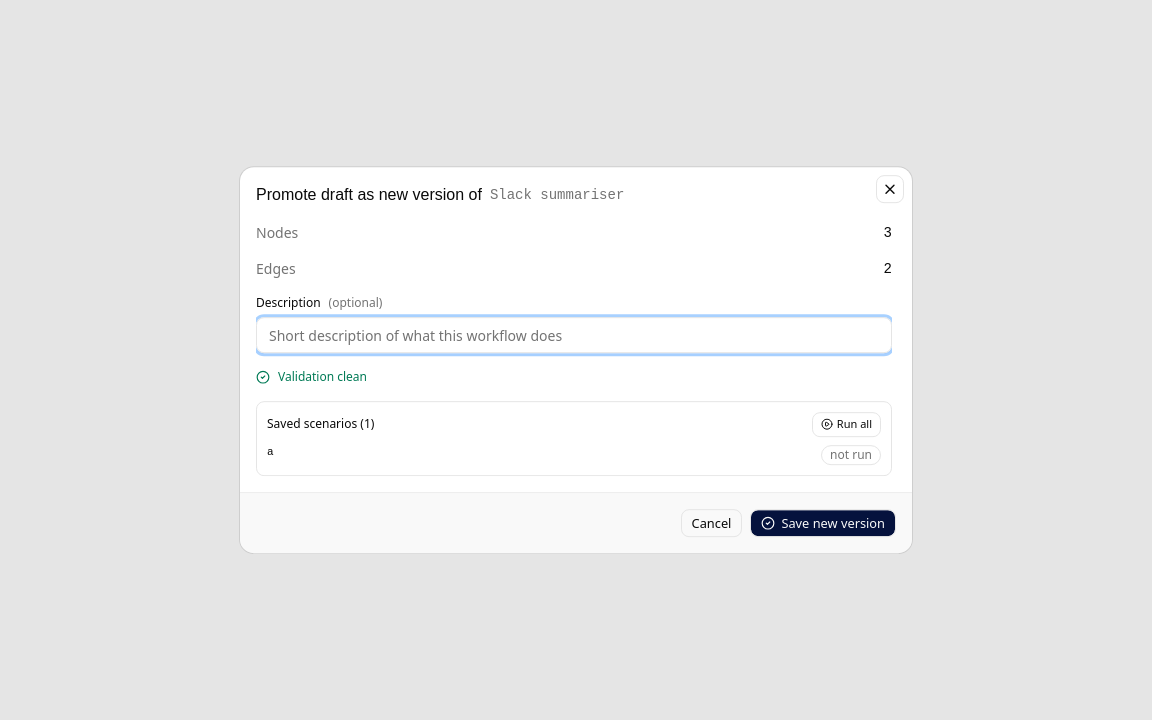
Test: PromoteDialog › leaves Apply enabled when all scenarios pass
Expected: the text "a" is shown, [267,445,274,460]
What coordinates should you click on to do the following:
click the button with aria-label "run all scenarios"
I would click on:
 (846, 425)
Its box is [812,412,881,437].
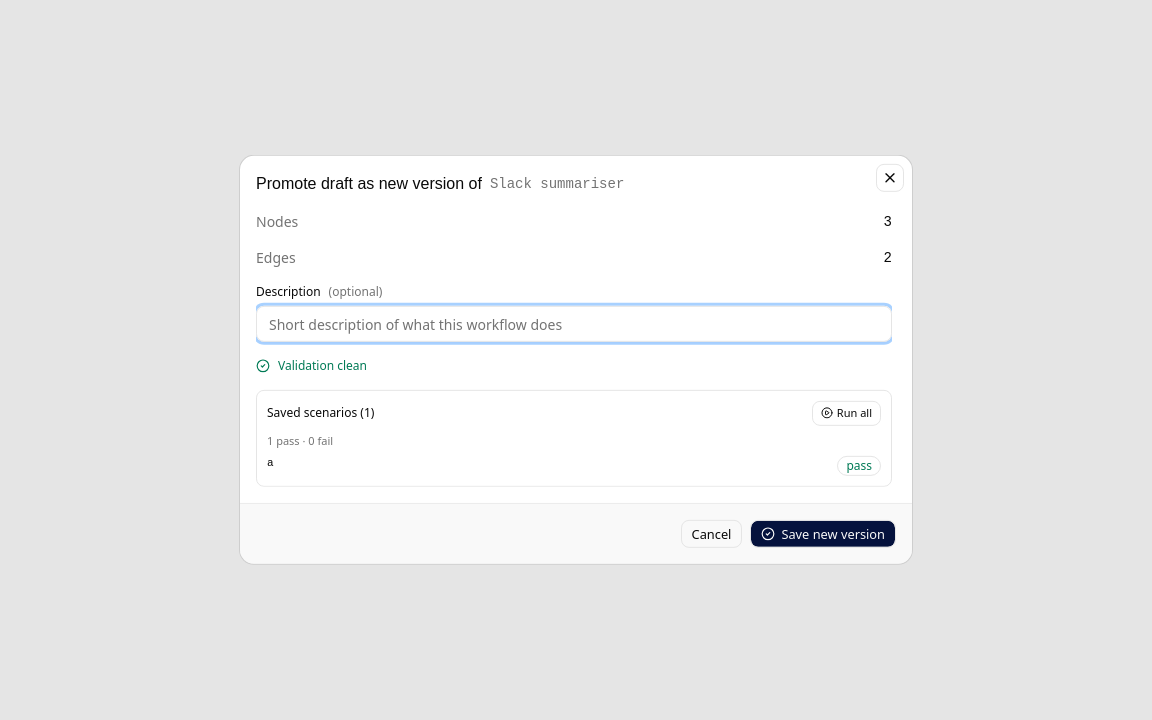
Expected: the button "Save new version" is enabled, [750,520,896,548]
Now the icon "pass" is shown, box [837,456,881,476]
